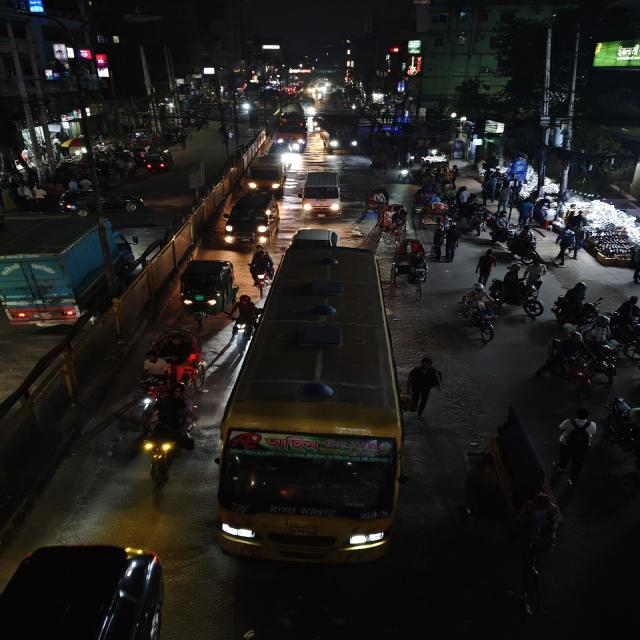bus: (216, 243, 406, 571), (316, 111, 362, 153)
car: (223, 188, 279, 248), (57, 188, 148, 216), (300, 168, 344, 220)
cng: (0, 538, 174, 640), (176, 256, 236, 320), (141, 147, 175, 173), (390, 157, 414, 183), (368, 152, 389, 176)
motorcycle: (137, 389, 199, 485), (546, 334, 600, 394), (456, 285, 497, 342), (606, 395, 640, 463), (551, 280, 600, 325), (228, 292, 254, 342), (248, 243, 272, 287)
pedestrian: (554, 404, 596, 492), (405, 354, 447, 416), (434, 220, 463, 262), (510, 227, 540, 263), (472, 248, 498, 286), (523, 259, 546, 295)
rickshaw: (135, 326, 206, 398), (390, 236, 430, 292), (381, 203, 410, 237), (363, 185, 391, 213), (368, 152, 389, 176)
truck: (0, 213, 133, 330), (244, 153, 287, 192), (274, 112, 309, 152)
